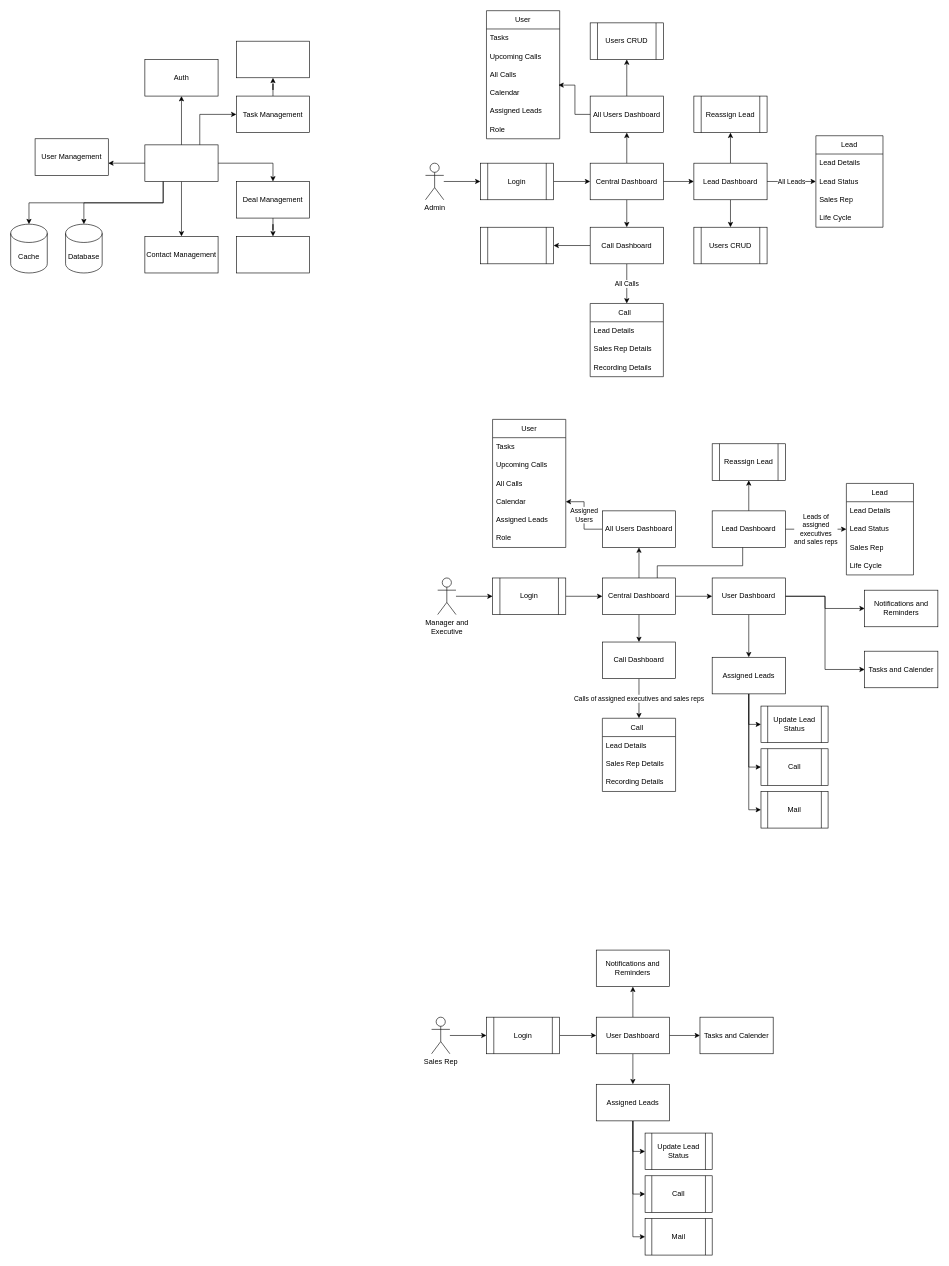
This 949x1266 diagram has some shape labels left out. The shapes that lost their labels are listed below. From the top down, each one's centre as x and y in pixels, then its label:
At point (273, 59): "Reminder Service".
At point (181, 162): "CRM".
At point (273, 254): "Integration Handler".
At point (517, 245): "Calls CRUD".
